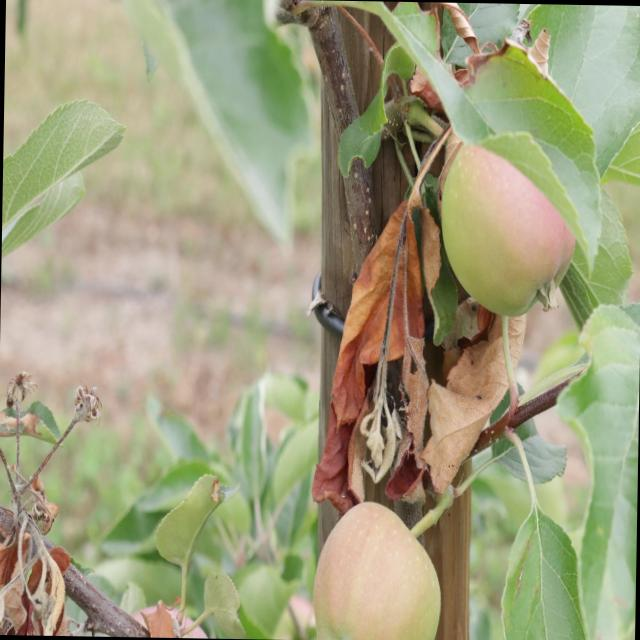-FireBlight-: (326, 206, 442, 512), (456, 321, 528, 438)
